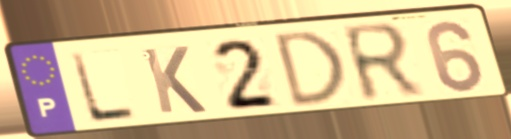2: (209, 37, 278, 113)
6: (422, 17, 487, 95)
D: (272, 28, 351, 111)
K: (138, 44, 210, 116)
L: (67, 51, 141, 125)
R: (337, 19, 428, 107)
